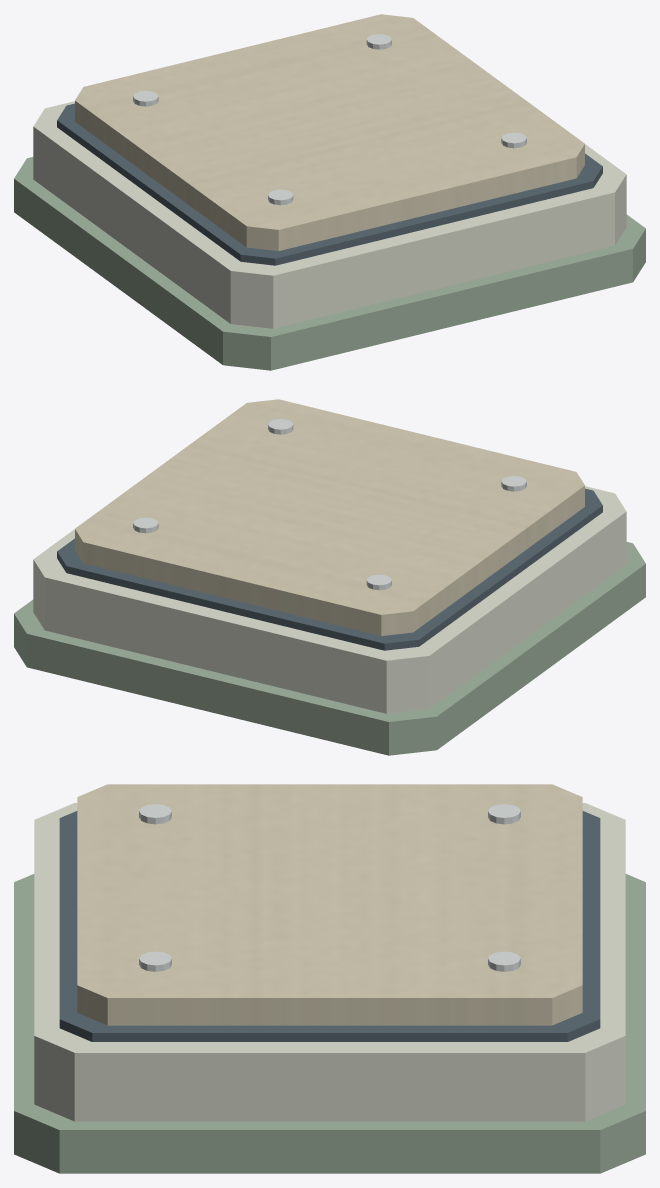
The model's file is m01-metal-corner-se.glb.
3 views of the same model, one above another, from view 1: azimuth 30°, elevation 25°; view 2: azimuth 150°, elevation 25°; view 3: azimuth 270°, elevation 25° (orthographic). The views are drawn at different scales.
Parts seen in each view (by area): view 1: corner-se/003, corner-se/001, corner-se/000, corner-se/002; view 2: corner-se/003, corner-se/001, corner-se/000, corner-se/002; view 3: corner-se/003, corner-se/001, corner-se/000, corner-se/002, corner-se/004, corner-se/006, corner-se/005, corner-se/007.
Part boxes in pixels (x1=…): corner-se/003: x1=75, y1=14, x2=584, y2=250; corner-se/001: x1=33, y1=101, x2=626, y2=328; corner-se/000: x1=14, y1=157, x2=645, y2=370; corner-se/002: x1=57, y1=103, x2=602, y2=265; corner-se/003: x1=75, y1=399, x2=584, y2=635; corner-se/001: x1=33, y1=486, x2=626, y2=713; corner-se/000: x1=14, y1=542, x2=645, y2=755; corner-se/002: x1=57, y1=488, x2=602, y2=650; corner-se/003: x1=77, y1=784, x2=582, y2=1025; corner-se/001: x1=34, y1=803, x2=625, y2=1121; corner-se/000: x1=14, y1=874, x2=645, y2=1173; corner-se/002: x1=59, y1=811, x2=600, y2=1041; corner-se/004: x1=488, y1=804, x2=520, y2=824; corner-se/006: x1=139, y1=804, x2=171, y2=824; corner-se/005: x1=488, y1=951, x2=520, y2=971; corner-se/007: x1=139, y1=951, x2=171, y2=971.
Bounding box in the file's own units: 0.25 × 0.0678 × 0.25.
5 materials, 1 textured.
